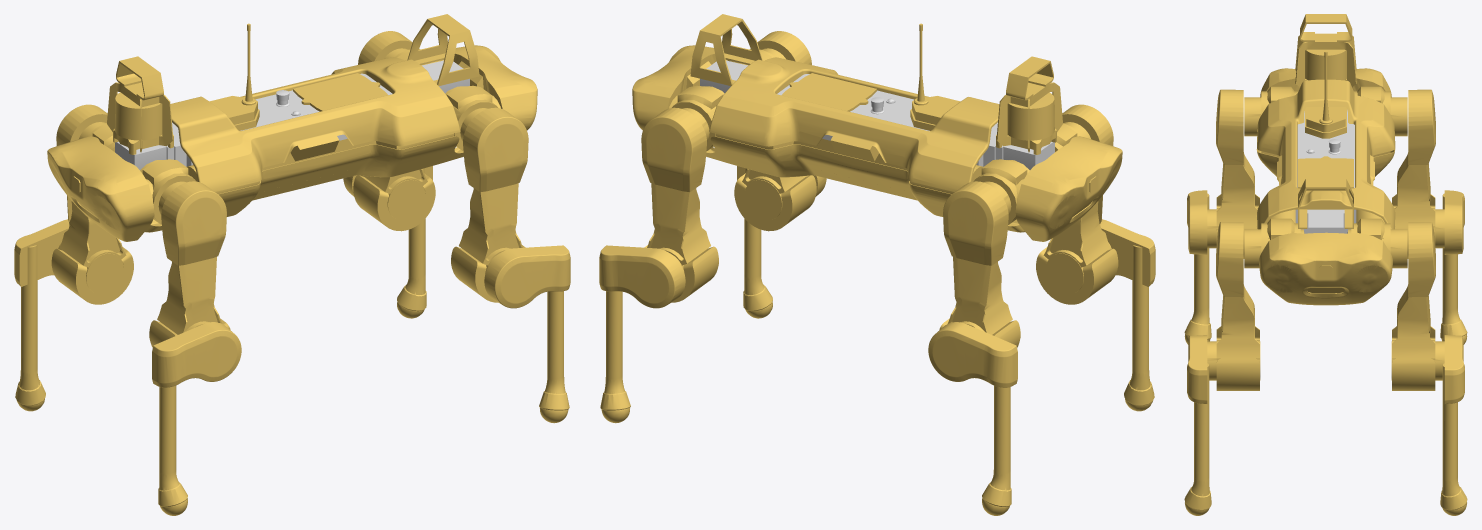
File: anymal_c_quadruped.glb
The picture shows the model from 3 angles, left to right: view 1: azimuth 30°, elevation 25°; view 2: azimuth 150°, elevation 25°; view 3: azimuth 270°, elevation 25°; orthographic projection. The views are drawn at different scales.
Parts seen in each view (by area): view 1: top_shell, RF_thigh_fixed, RH_thigh_fixed, face_rear, bottom_shell, LH_thigh_fixed, RH_shank_fixed, RF_shank_fixed, LF_thigh_fixed, base, lidar_cage, face_front (+14 smaller); view 2: top_shell, LF_thigh_fixed, LH_thigh_fixed, face_rear, bottom_shell, RH_thigh_fixed, LH_shank_fixed, LF_shank_fixed, RF_thigh_fixed, base, lidar_cage, face_front (+14 smaller); view 3: top_shell, face_front, RF_thigh_fixed, LF_thigh_fixed, RH_thigh_fixed, LH_thigh_fixed, base, lidar_cage, LF_FOOT, RF_FOOT, LH_FOOT, RH_FOOT (+22 smaller).
Boxes of the visible parts, x1=… form: top_shell: x1=170, y1=57, x2=460, y2=191; RF_thigh_fixed: x1=451, y1=107, x2=528, y2=302; RH_thigh_fixed: x1=149, y1=181, x2=230, y2=347; face_rear: x1=47, y1=136, x2=154, y2=241; bottom_shell: x1=145, y1=136, x2=463, y2=232; LH_thigh_fixed: x1=51, y1=104, x2=133, y2=304; RH_shank_fixed: x1=152, y1=322, x2=241, y2=387; RF_shank_fixed: x1=484, y1=245, x2=570, y2=308; LF_thigh_fixed: x1=353, y1=31, x2=435, y2=231; base: x1=115, y1=60, x2=469, y2=169; lidar_cage: x1=107, y1=56, x2=173, y2=154; face_front: x1=453, y1=45, x2=537, y2=130; top_shell: x1=709, y1=57, x2=999, y2=191; LF_thigh_fixed: x1=641, y1=107, x2=718, y2=302; LH_thigh_fixed: x1=939, y1=181, x2=1020, y2=347; face_rear: x1=1015, y1=136, x2=1122, y2=241; bottom_shell: x1=706, y1=136, x2=1024, y2=232; RH_thigh_fixed: x1=1036, y1=104, x2=1118, y2=304; LH_shank_fixed: x1=928, y1=322, x2=1017, y2=387; LF_shank_fixed: x1=599, y1=245, x2=685, y2=308; RF_thigh_fixed: x1=734, y1=31, x2=816, y2=231; base: x1=700, y1=60, x2=1054, y2=169; lidar_cage: x1=996, y1=56, x2=1062, y2=154; face_front: x1=632, y1=45, x2=716, y2=130; top_shell: x1=1257, y1=79, x2=1395, y2=229; face_front: x1=1259, y1=232, x2=1392, y2=305; RF_thigh_fixed: x1=1216, y1=222, x2=1259, y2=390; LF_thigh_fixed: x1=1392, y1=222, x2=1435, y2=390; RH_thigh_fixed: x1=1216, y1=89, x2=1259, y2=258; LH_thigh_fixed: x1=1392, y1=89, x2=1435, y2=258; base: x1=1295, y1=110, x2=1356, y2=233; lidar_cage: x1=1295, y1=14, x2=1356, y2=87; LF_FOOT: x1=1440, y1=363, x2=1467, y2=515; RF_FOOT: x1=1184, y1=363, x2=1211, y2=515; LH_FOOT: x1=1440, y1=193, x2=1467, y2=344; RH_FOOT: x1=1184, y1=193, x2=1211, y2=344.
Size of the model in its own units: 1.05 by 0.9164 by 0.6517.
